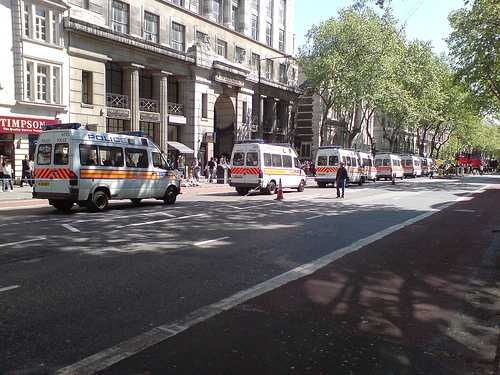Police Van: (14, 113, 207, 210), (226, 135, 330, 199), (315, 148, 363, 188), (340, 149, 388, 188), (375, 154, 415, 181), (398, 153, 438, 180)
